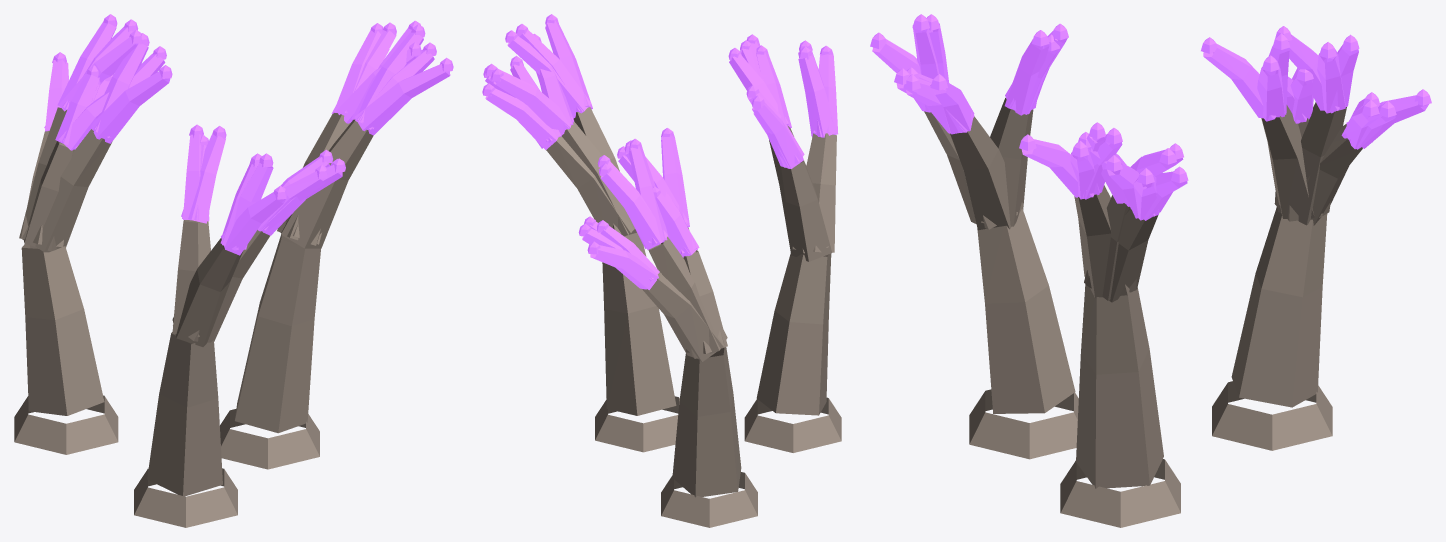
File: coral_v03.glb
The picture shows the model from 3 angles, left to right: view 1: azimuth 30°, elevation 25°; view 2: azimuth 150°, elevation 25°; view 3: azimuth 270°, elevation 25°; orthographic projection. The views are drawn at different scales.
Parts seen in each view (by area): view 1: mushroom_coral_flesh_nocol, mushroom_coral_glow_nocol; view 2: mushroom_coral_flesh_nocol, mushroom_coral_glow_nocol; view 3: mushroom_coral_flesh_nocol, mushroom_coral_glow_nocol.
Part boxes in pixels (bbox=[...]): mushroom_coral_flesh_nocol: bbox=[14, 107, 373, 527]; mushroom_coral_glow_nocol: bbox=[44, 14, 453, 255]; mushroom_coral_flesh_nocol: bbox=[546, 107, 841, 527]; mushroom_coral_glow_nocol: bbox=[482, 14, 838, 289]; mushroom_coral_flesh_nocol: bbox=[924, 98, 1362, 527]; mushroom_coral_glow_nocol: bbox=[870, 14, 1431, 220].
Size of the model in its own units: 0.8409 by 0.9048 by 1.01.
